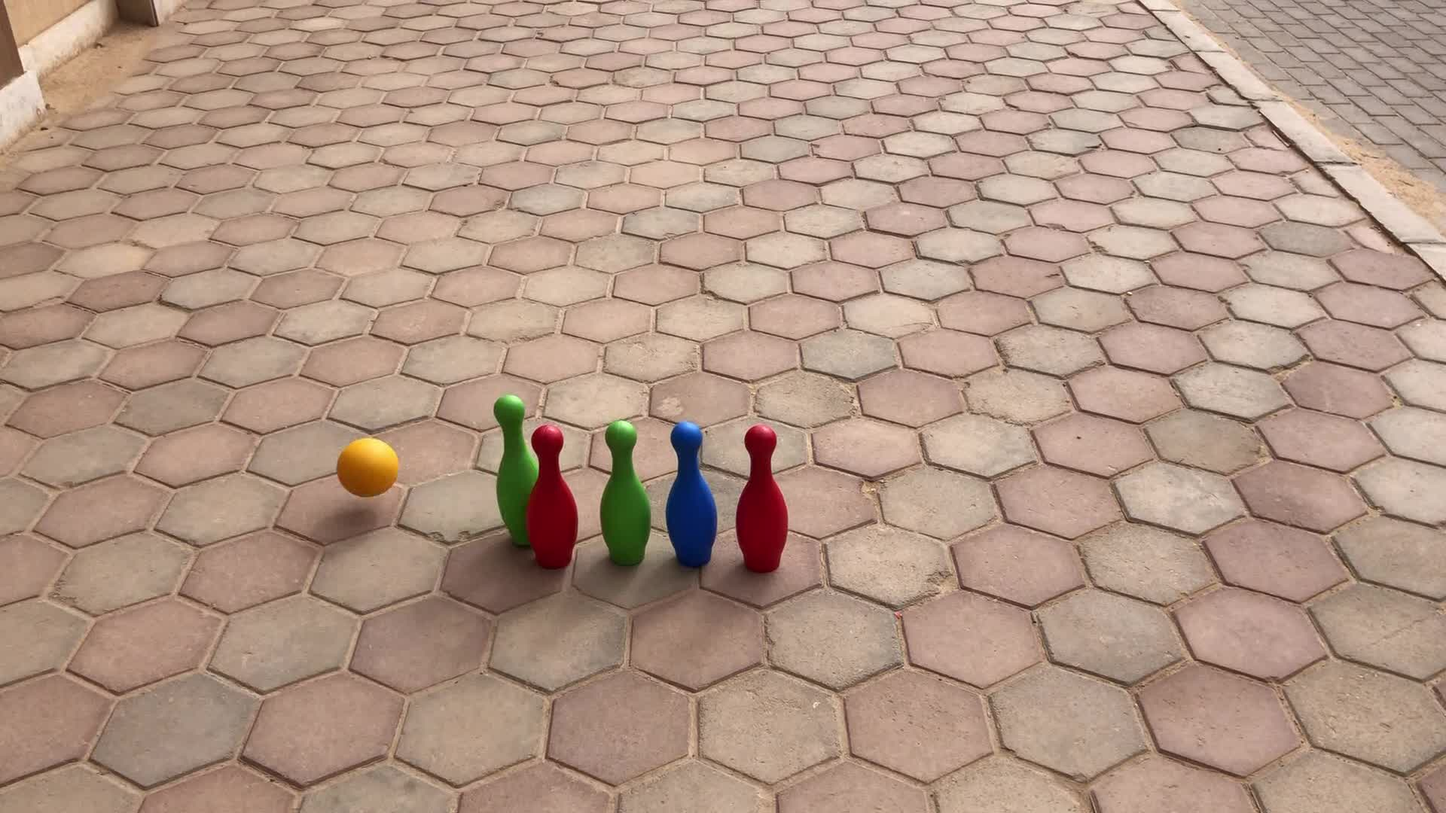pin: (526, 425, 579, 569), (737, 425, 787, 573), (666, 423, 717, 568), (602, 422, 651, 565), (494, 394, 539, 549)
